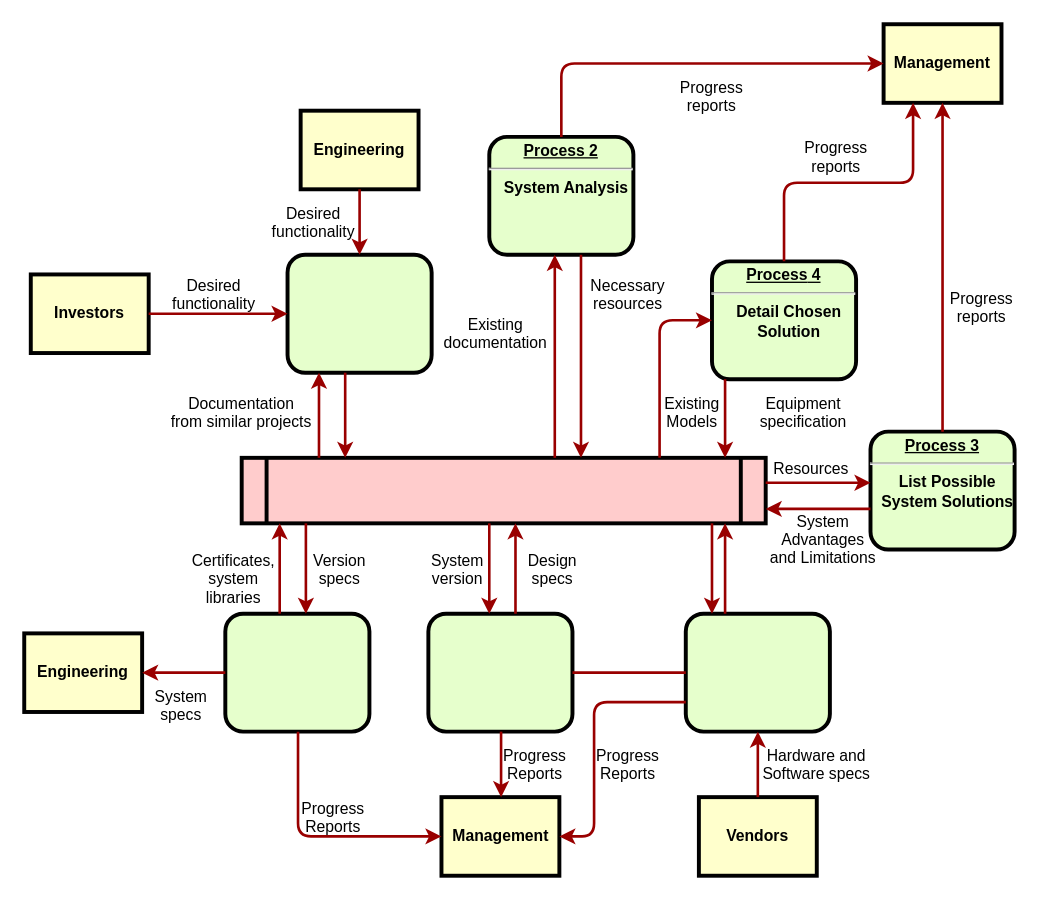
Image size: 1039x900. Some labels were removed from this diagram. The shapes that lost their labels are listed below. From the top down, each one's centre as x and y in pixels, then its label:
At pixel 359 313: "Process 1 System Study Preparation".
At pixel 503 490: "BLOGPOST APP".
At pixel 297 672: "Process 6 New System Construction".
At pixel 500 672: "Process 7 New System Startup and Testing".
At pixel 757 672: "Process 5 New System Design".
